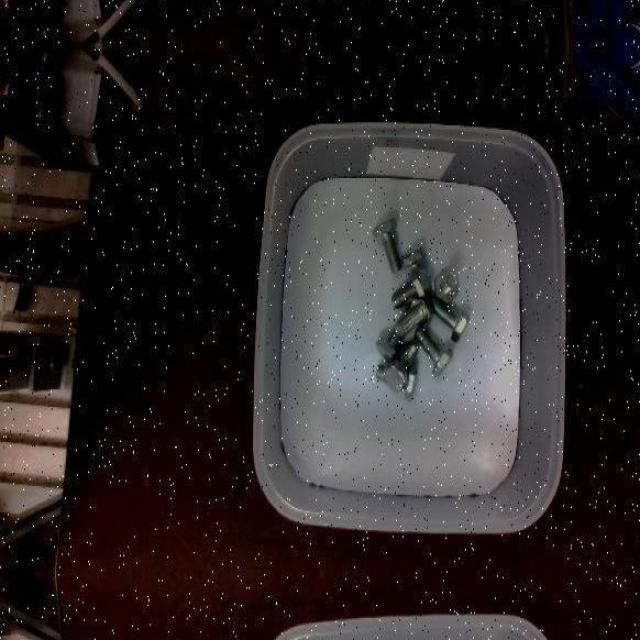screw: (415, 326, 454, 376), (390, 265, 431, 309), (430, 296, 470, 341), (384, 341, 417, 391), (372, 217, 400, 272), (436, 270, 458, 303)
